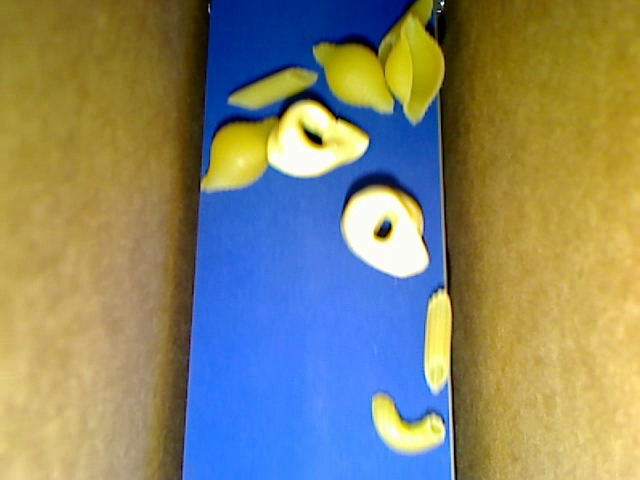elbow: (371, 390, 446, 456)
penne: (227, 65, 318, 111), (377, 1, 433, 67), (424, 288, 452, 396)
shell: (383, 14, 446, 125), (199, 118, 279, 192), (312, 42, 393, 114)
tortellini: (340, 186, 430, 279), (265, 100, 370, 176)
